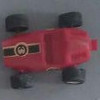carro: (3, 13, 96, 86)
